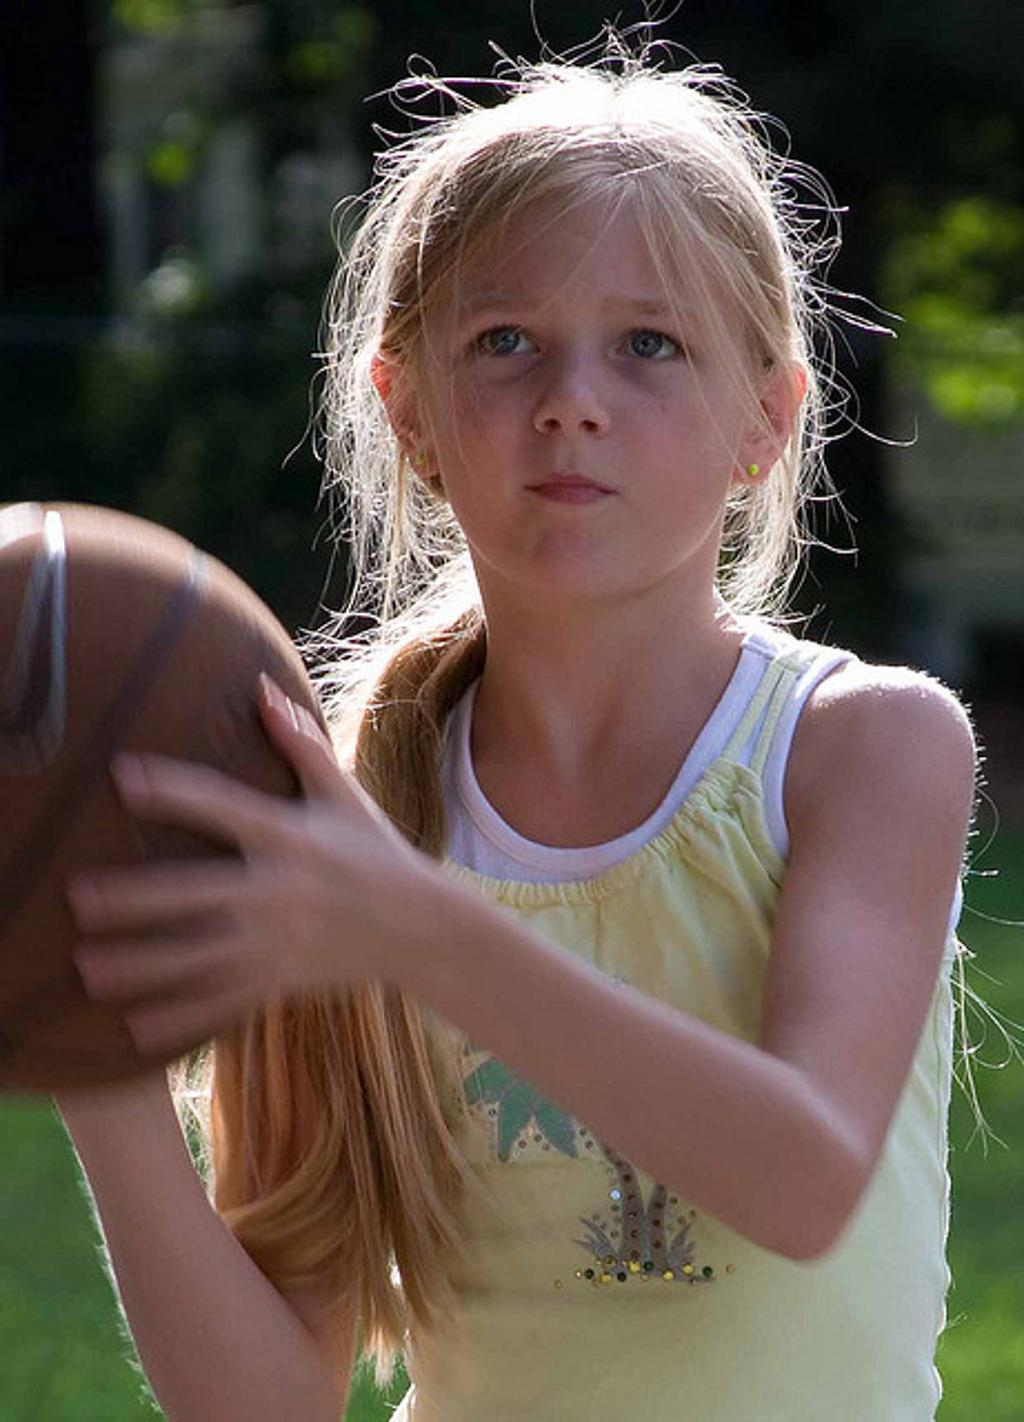face: (420, 165, 756, 587)
